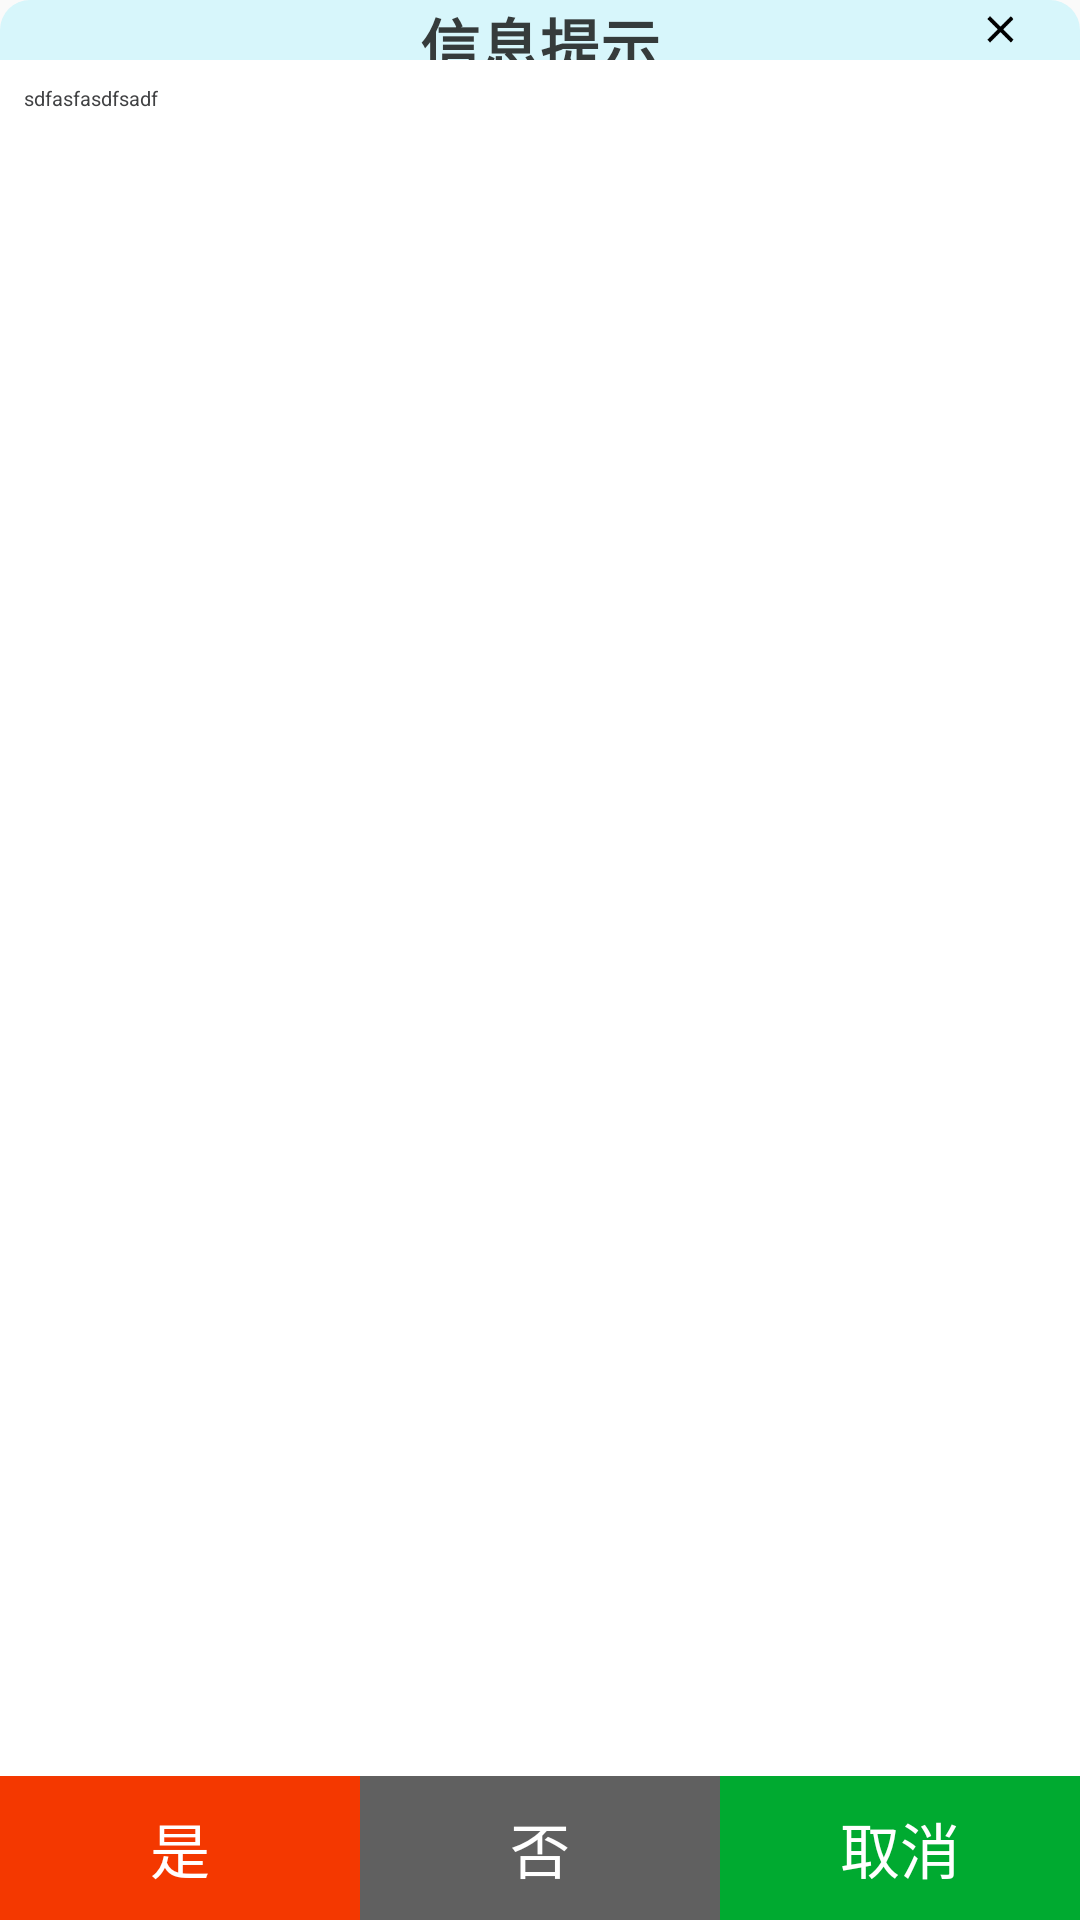

Icons on this 1080px×1920px Android screen, each with its box as (x1, y1, x2, y2):
close: (987, 16, 1014, 43)
